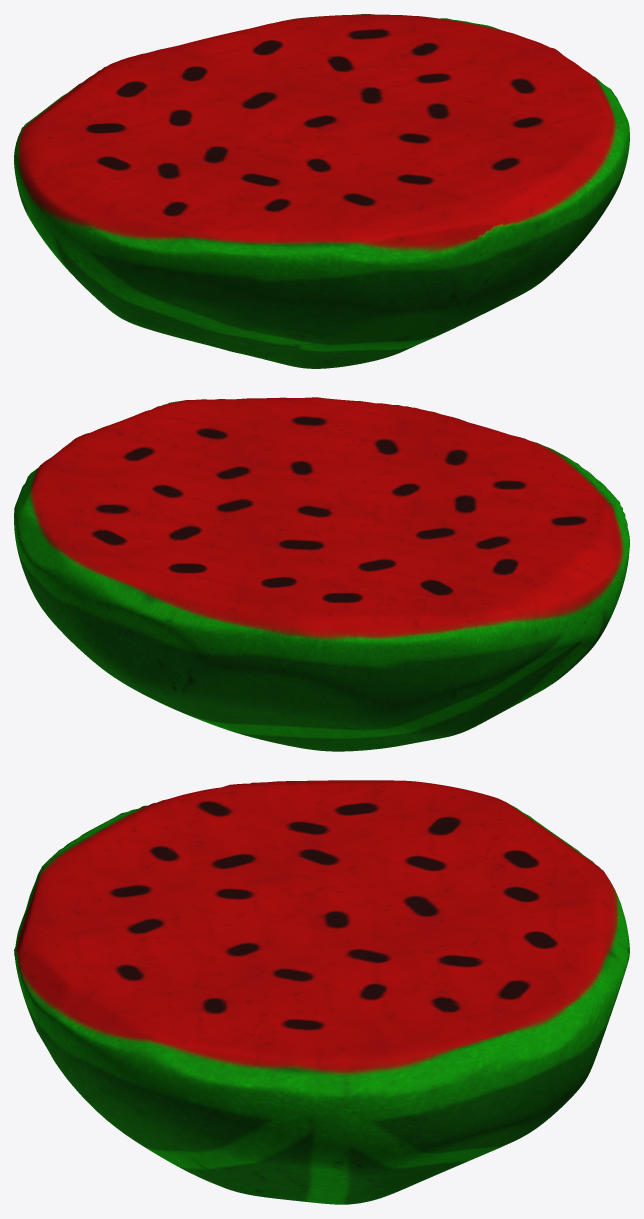
Rendered from textured use.obj.
3 renders of one model, top to bottom at view 1: azimuth 30°, elevation 25°; view 2: azimuth 150°, elevation 25°; view 3: azimuth 270°, elevation 25°, orthographic. The views are drawn at different scales.
Visible parts, largest first — view 1: Group3770; view 2: Group3770; view 3: Group3770.
Part boxes in pixels (left/top/right/bottom): Group3770: left=14, top=14, right=629, bottom=368; Group3770: left=14, top=397, right=629, bottom=751; Group3770: left=14, top=780, right=629, bottom=1204.
Size of the model in its own units: 15.38 by 5.7 by 13.06.
1 material, 1 textured.
